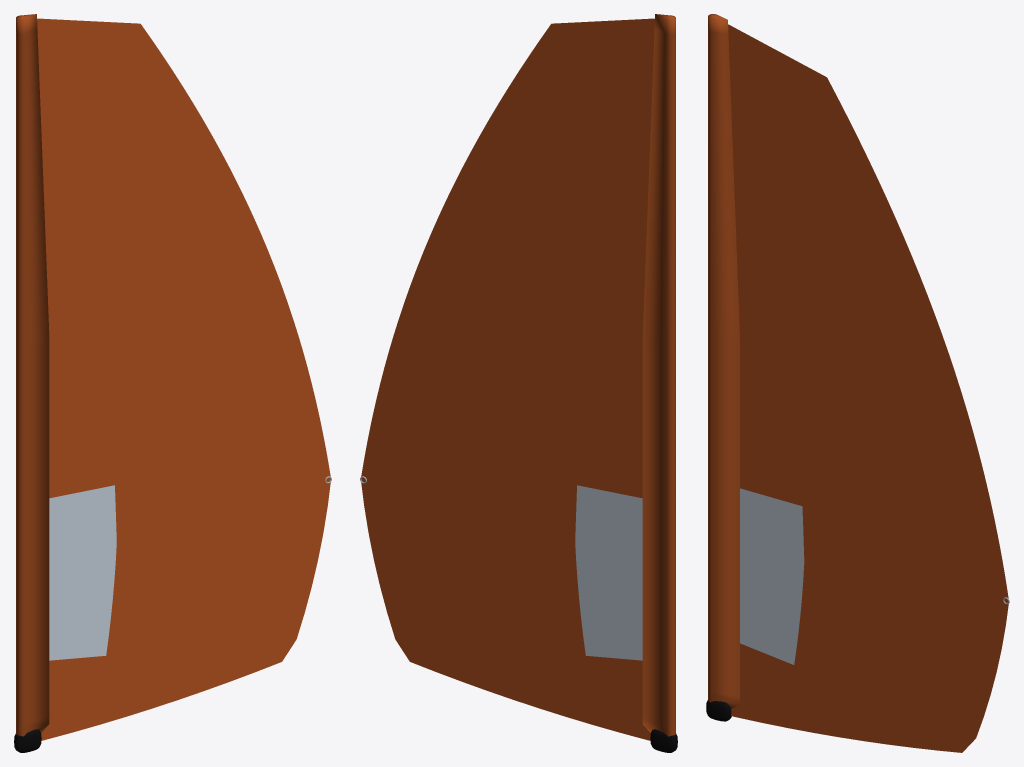
File: savanna_slalom_8_5.glb
3 views of the same model, side by side, from view 1: azimuth 30°, elevation 25°; view 2: azimuth 150°, elevation 25°; view 3: azimuth 330°, elevation 25° (orthographic). The views are drawn at different scales.
Visible parts, largest first — view 1: SailCloth; view 2: SailCloth; view 3: SailCloth.
Boxes of the visible parts, box(x1,y1,x2,y2) form: SailCloth: box(16, 14, 330, 740); SailCloth: box(361, 14, 675, 740); SailCloth: box(708, 14, 1008, 752).
Bounding box in the file's own units: 2.27 × 5.05 × 0.08.
